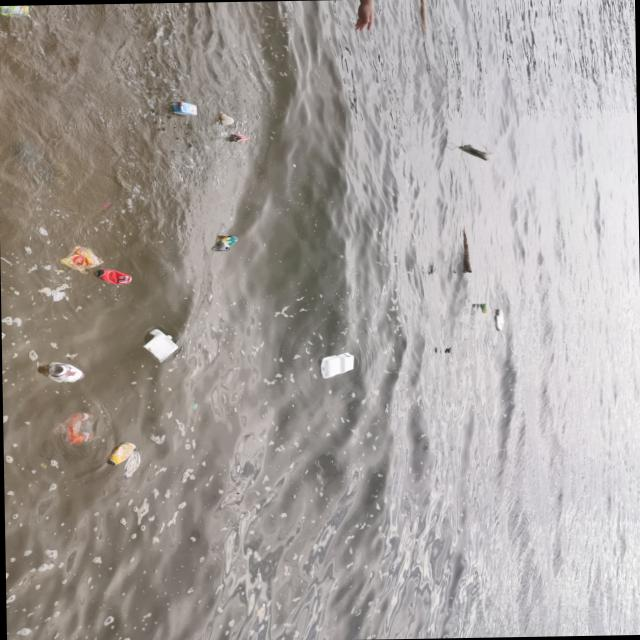can: (47, 362, 83, 382), (105, 441, 135, 464), (96, 268, 130, 284), (217, 235, 237, 251), (481, 302, 486, 312)
foam: (140, 328, 177, 362), (320, 352, 354, 378), (494, 308, 504, 330)
plastic bottle: (56, 411, 95, 445), (58, 244, 102, 274)
unknow: (121, 449, 141, 479), (458, 143, 488, 160), (0, 5, 31, 18), (172, 102, 197, 115), (218, 111, 232, 125), (231, 134, 249, 142), (444, 347, 452, 353)
